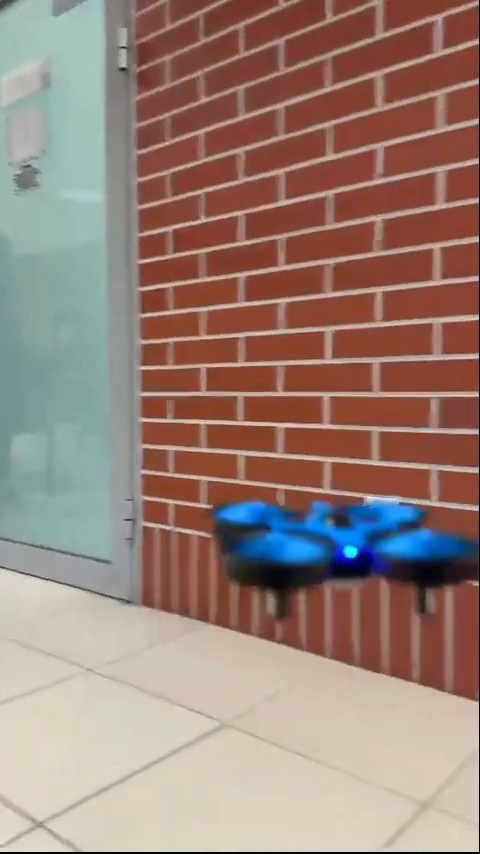drone: (212, 485, 480, 613)
